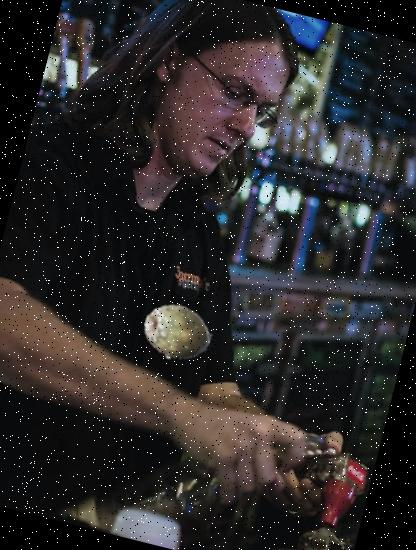Cactus: (136, 293, 218, 375)
